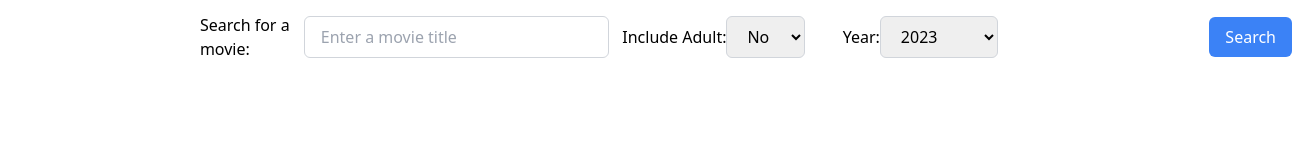
Test: SearchBar › displays error message if query is empty
The width and height of the screenshot is (1304, 160).
Step 1. Select "No" in the dropdown labelled "Include Adult:" → (766, 37), box [726, 16, 806, 58]
Step 2. Select "2023" in the dropdown labelled "Year:" → (939, 37), box [880, 16, 998, 58]
Step 3. Click the button "Search" → (1251, 37), box [1209, 17, 1292, 57]
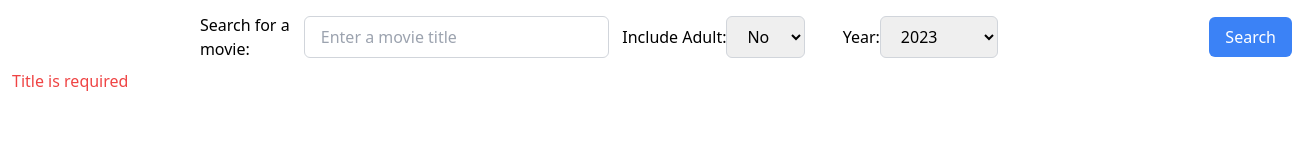
Result: the text "Title is required" is shown at [12, 70, 128, 92]
